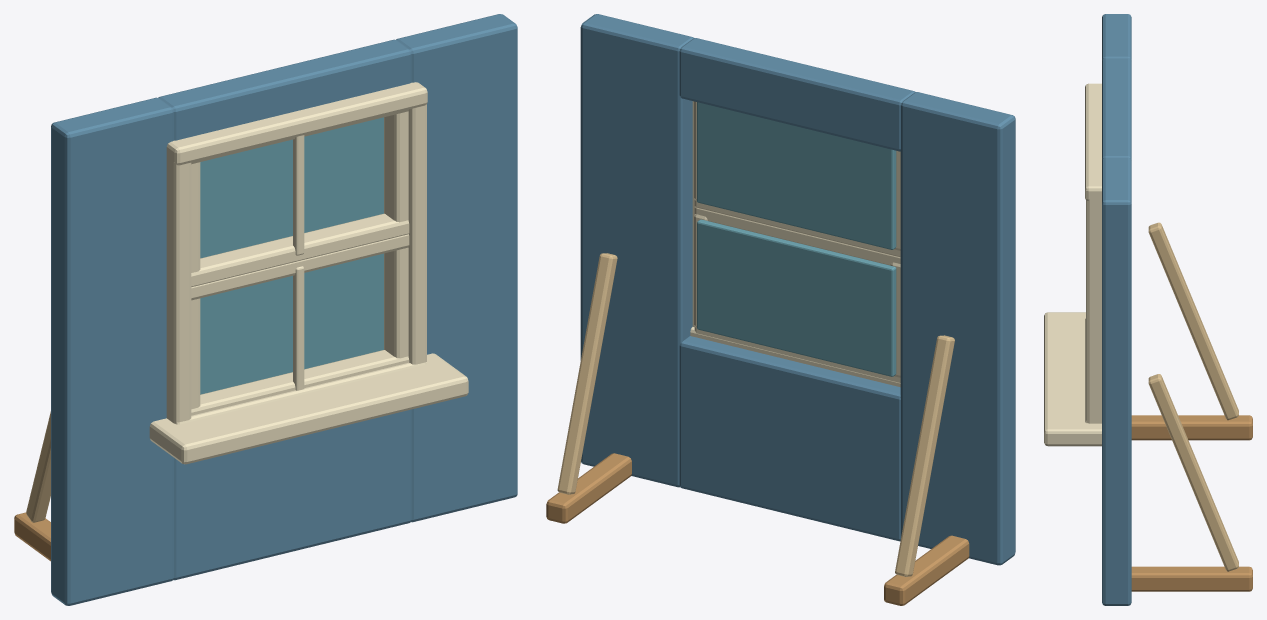
Rendered from S006_sash_window_wall.glb.
3 views of the same model, side by side, from view 1: azimuth 30°, elevation 25°; view 2: azimuth 150°, elevation 25°; view 3: azimuth 270°, elevation 25° (orthographic). The views are drawn at different scales.
Visible parts, largest first — view 1: window_side_wall, window_side_wall.001, window_wall, painted_glass, painted_glass.001, sill, window_wall.001, window_horizontal.001, window_vertical, window_horizontal.004, window_vertical.001, window_horizontal.002 (+10 smaller); view 2: window_side_wall, window_side_wall.001, window_wall, painted_glass, painted_glass.001, window_wall.001, rear_triangular_brace.001, rear_triangular_brace, rear_plywood_foot.001, rear_plywood_foot, window_horizontal.003, window_horizontal.004 (+2 smaller); view 3: window_side_wall.001, sill, window_vertical.001, rear_triangular_brace, rear_triangular_brace.001, rear_plywood_foot.001, window_wall.001, rear_plywood_foot, window_horizontal.001, window_side_wall.
Part boxes in pixels (x1=…): window_side_wall: x1=51, y1=97, x2=173, y2=605; window_side_wall.001: x1=396, y1=14, x2=517, y2=522; window_wall: x1=173, y1=409, x2=411, y2=580; painted_glass: x1=200, y1=253, x2=383, y2=394; painted_glass.001: x1=200, y1=117, x2=383, y2=258; sill: x1=149, y1=353, x2=468, y2=464; window_wall.001: x1=158, y1=39, x2=411, y2=140; window_horizontal.001: x1=166, y1=82, x2=427, y2=165; window_vertical: x1=166, y1=157, x2=191, y2=423; window_horizontal.004: x1=191, y1=213, x2=409, y2=286; window_vertical.001: x1=408, y1=104, x2=426, y2=364; window_horizontal.002: x1=191, y1=350, x2=409, y2=415; window_side_wall: x1=900, y1=92, x2=1015, y2=565; window_side_wall.001: x1=580, y1=14, x2=693, y2=487; window_wall: x1=679, y1=336, x2=900, y2=541; painted_glass: x1=697, y1=219, x2=896, y2=376; painted_glass.001: x1=697, y1=102, x2=896, y2=249; window_wall.001: x1=679, y1=38, x2=915, y2=151; rear_triangular_brace.001: x1=557, y1=253, x2=617, y2=494; rear_triangular_brace: x1=895, y1=335, x2=954, y2=576; rear_plywood_foot.001: x1=546, y1=453, x2=631, y2=523; rear_plywood_foot: x1=884, y1=535, x2=969, y2=605; window_horizontal.003: x1=694, y1=207, x2=900, y2=265; window_horizontal.004: x1=694, y1=200, x2=900, y2=257; window_side_wall.001: x1=1102, y1=157, x2=1131, y2=605; sill: x1=1044, y1=312, x2=1101, y2=446; window_vertical.001: x1=1086, y1=199, x2=1101, y2=423; rear_triangular_brace: x1=1148, y1=222, x2=1238, y2=420; rear_triangular_brace.001: x1=1148, y1=374, x2=1238, y2=571; rear_plywood_foot.001: x1=1131, y1=566, x2=1252, y2=591; window_wall.001: x1=1102, y1=58, x2=1131, y2=160; rear_plywood_foot: x1=1131, y1=415, x2=1252, y2=440; window_horizontal.001: x1=1085, y1=83, x2=1101, y2=200; window_side_wall: x1=1102, y1=14, x2=1131, y2=60.
Bounding box in the file's own units: 2.4 × 2.4 × 1.12.
